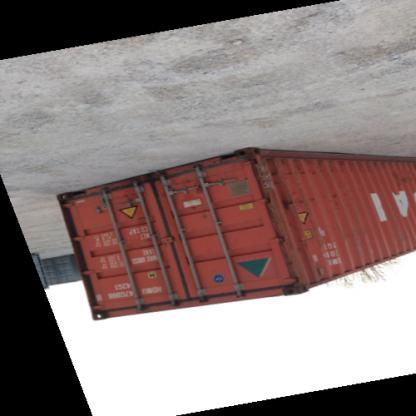Damage: (262, 158, 354, 180), (275, 192, 349, 207), (284, 230, 314, 262), (186, 196, 212, 230), (387, 173, 415, 194), (177, 179, 195, 189)
